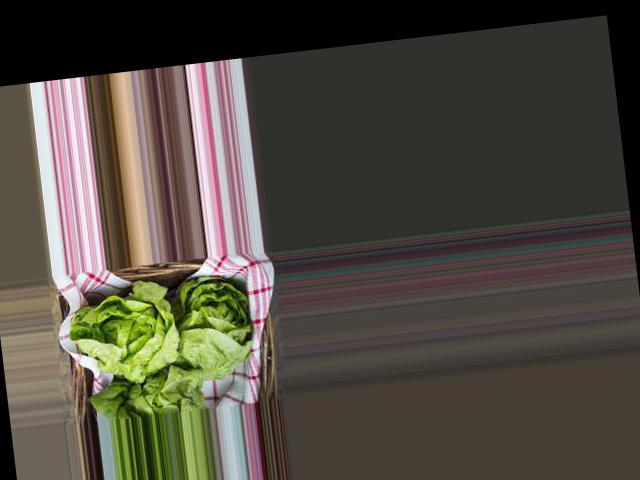lettuce: (76, 278, 251, 410)
